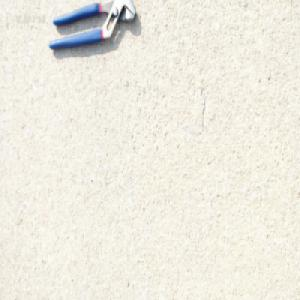Pliers: (47, 0, 137, 52)
